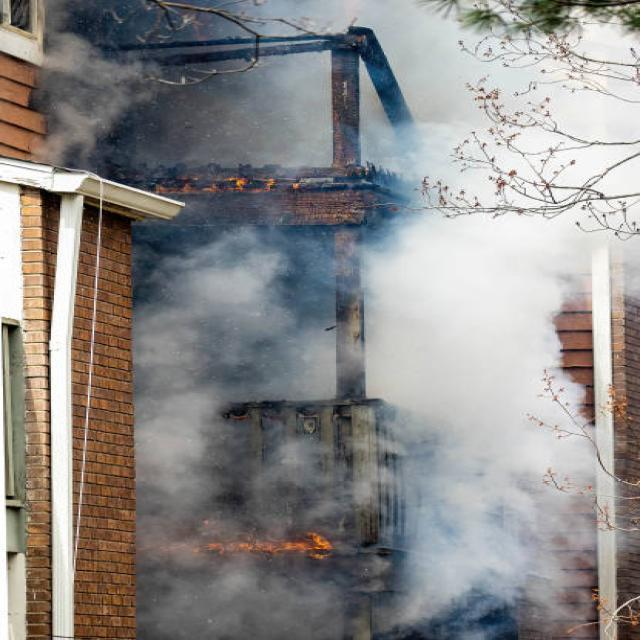Fire: (138, 530, 340, 566)
Smoke: (339, 105, 617, 628), (121, 222, 333, 640), (41, 20, 165, 174)
